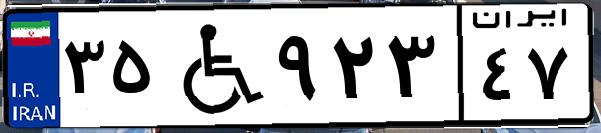2: (330, 28, 385, 110)
3: (385, 28, 445, 110), (57, 26, 110, 100)
4: (475, 38, 525, 113)
5: (110, 28, 158, 98)
7: (525, 38, 570, 115)
9: (270, 28, 330, 110)
ژ (معلولین و جانبازان): (158, 12, 270, 120)
